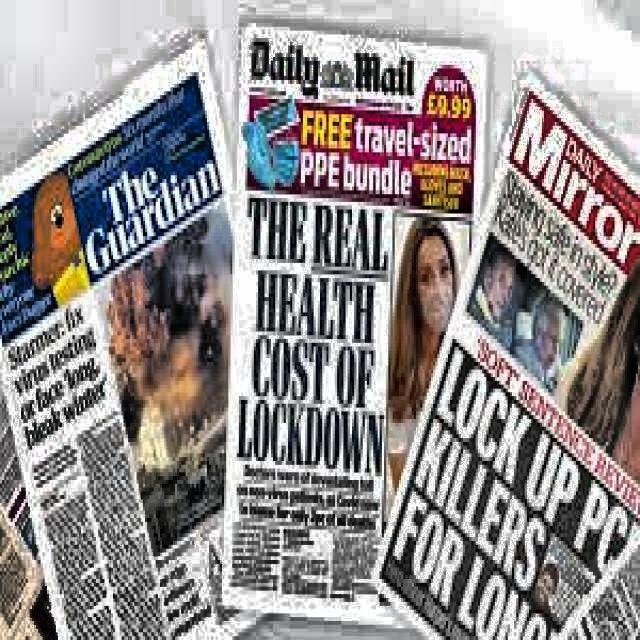Paper: (216, 16, 487, 614), (0, 31, 258, 636), (369, 69, 638, 636), (0, 384, 55, 636), (550, 514, 638, 636)
